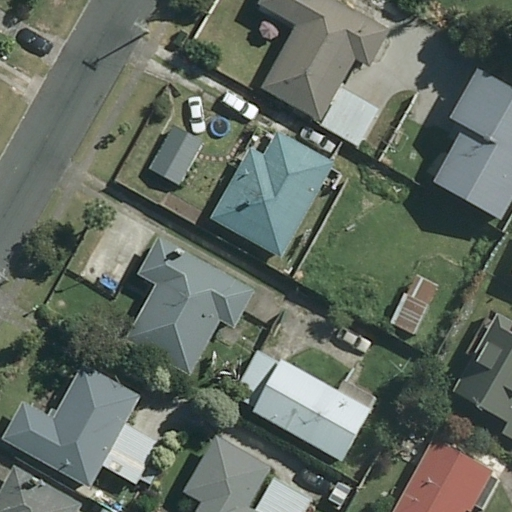DT: (131, 21, 152, 39), (1, 273, 9, 284)
